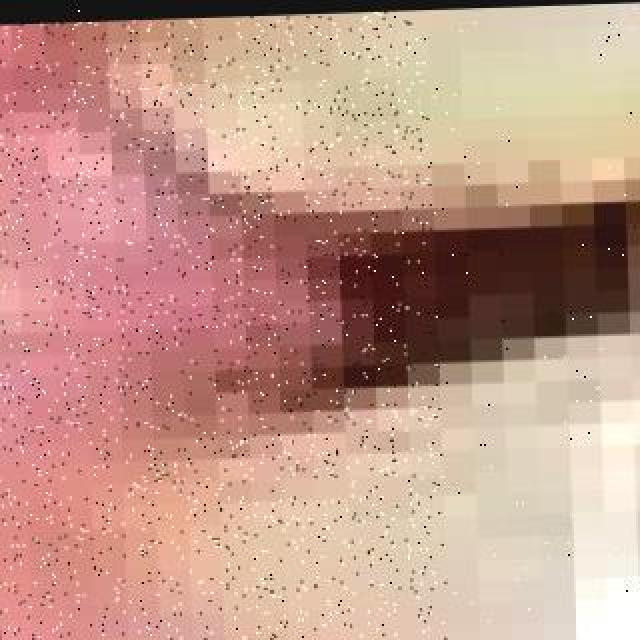spacing: (252, 190, 640, 462)
